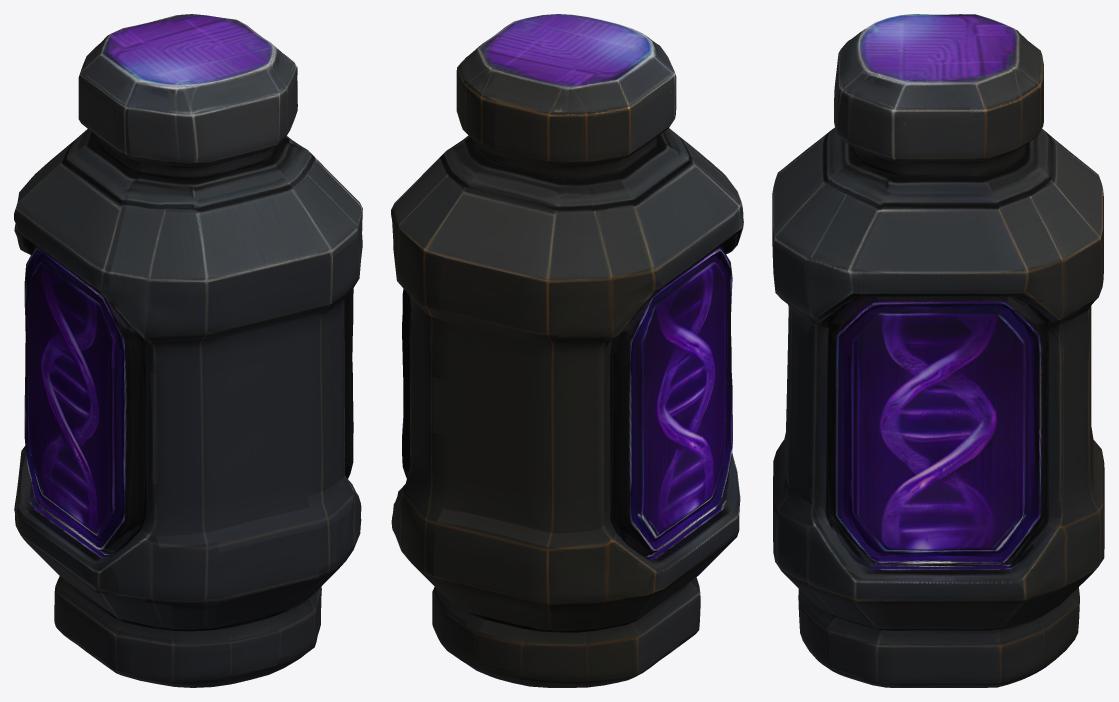
File: alien_dna_sample.glb
3 renders of one model, left to right at view 1: azimuth 30°, elevation 25°; view 2: azimuth 150°, elevation 25°; view 3: azimuth 270°, elevation 25°, orthographic.
Parts seen in each view (by area): view 1: tripo_node_3de2df3d-f3f5-4b03-8187-db0201b8a2d2; view 2: tripo_node_3de2df3d-f3f5-4b03-8187-db0201b8a2d2; view 3: tripo_node_3de2df3d-f3f5-4b03-8187-db0201b8a2d2.
Boxes of the visible parts, x1=… form: tripo_node_3de2df3d-f3f5-4b03-8187-db0201b8a2d2: x1=14, y1=14, x2=362, y2=687; tripo_node_3de2df3d-f3f5-4b03-8187-db0201b8a2d2: x1=391, y1=14, x2=743, y2=687; tripo_node_3de2df3d-f3f5-4b03-8187-db0201b8a2d2: x1=772, y1=14, x2=1104, y2=687.
Bounding box in the file's own units: 0.4653 × 0.9996 × 0.4956.
Materials: 1 (1 with a texture image).
